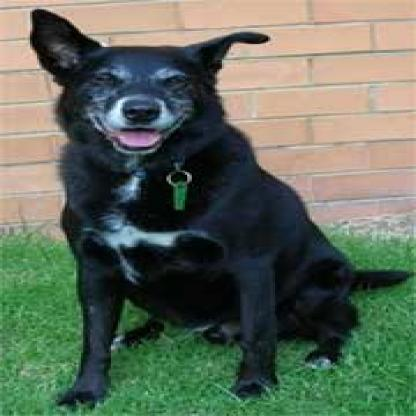kelpie: (25, 5, 409, 410)
